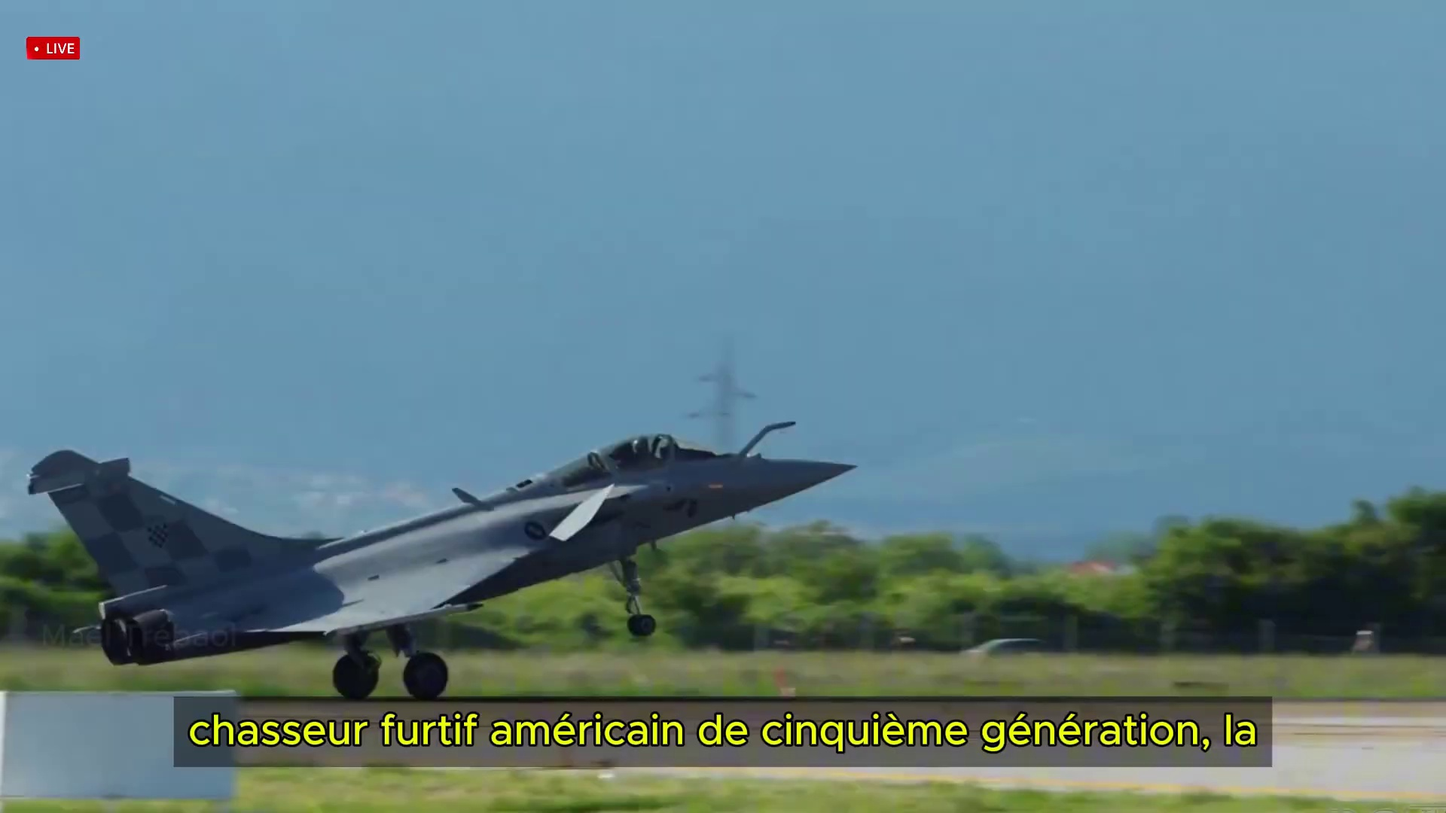Rafale: (28, 421, 857, 697)
